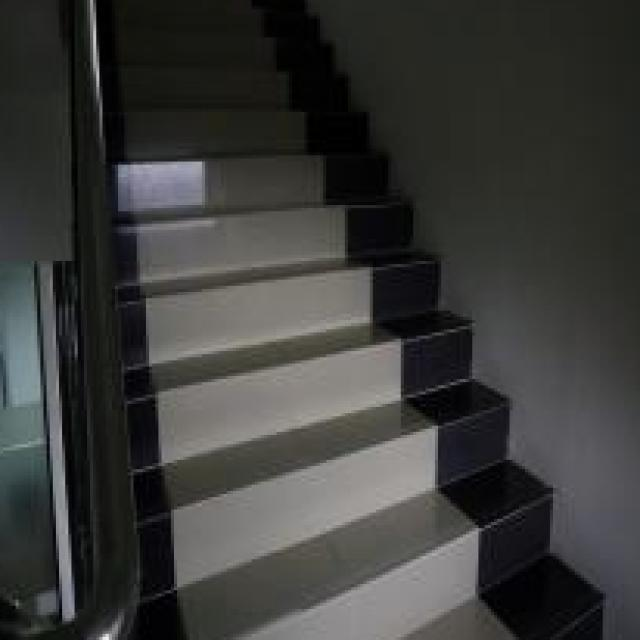upstair: (132, 1, 452, 640)
